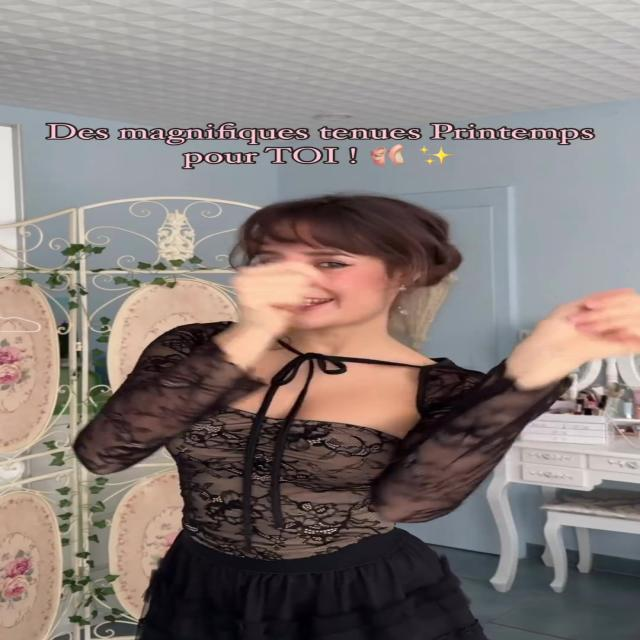7_mano_rostro: (229, 254, 325, 374)
